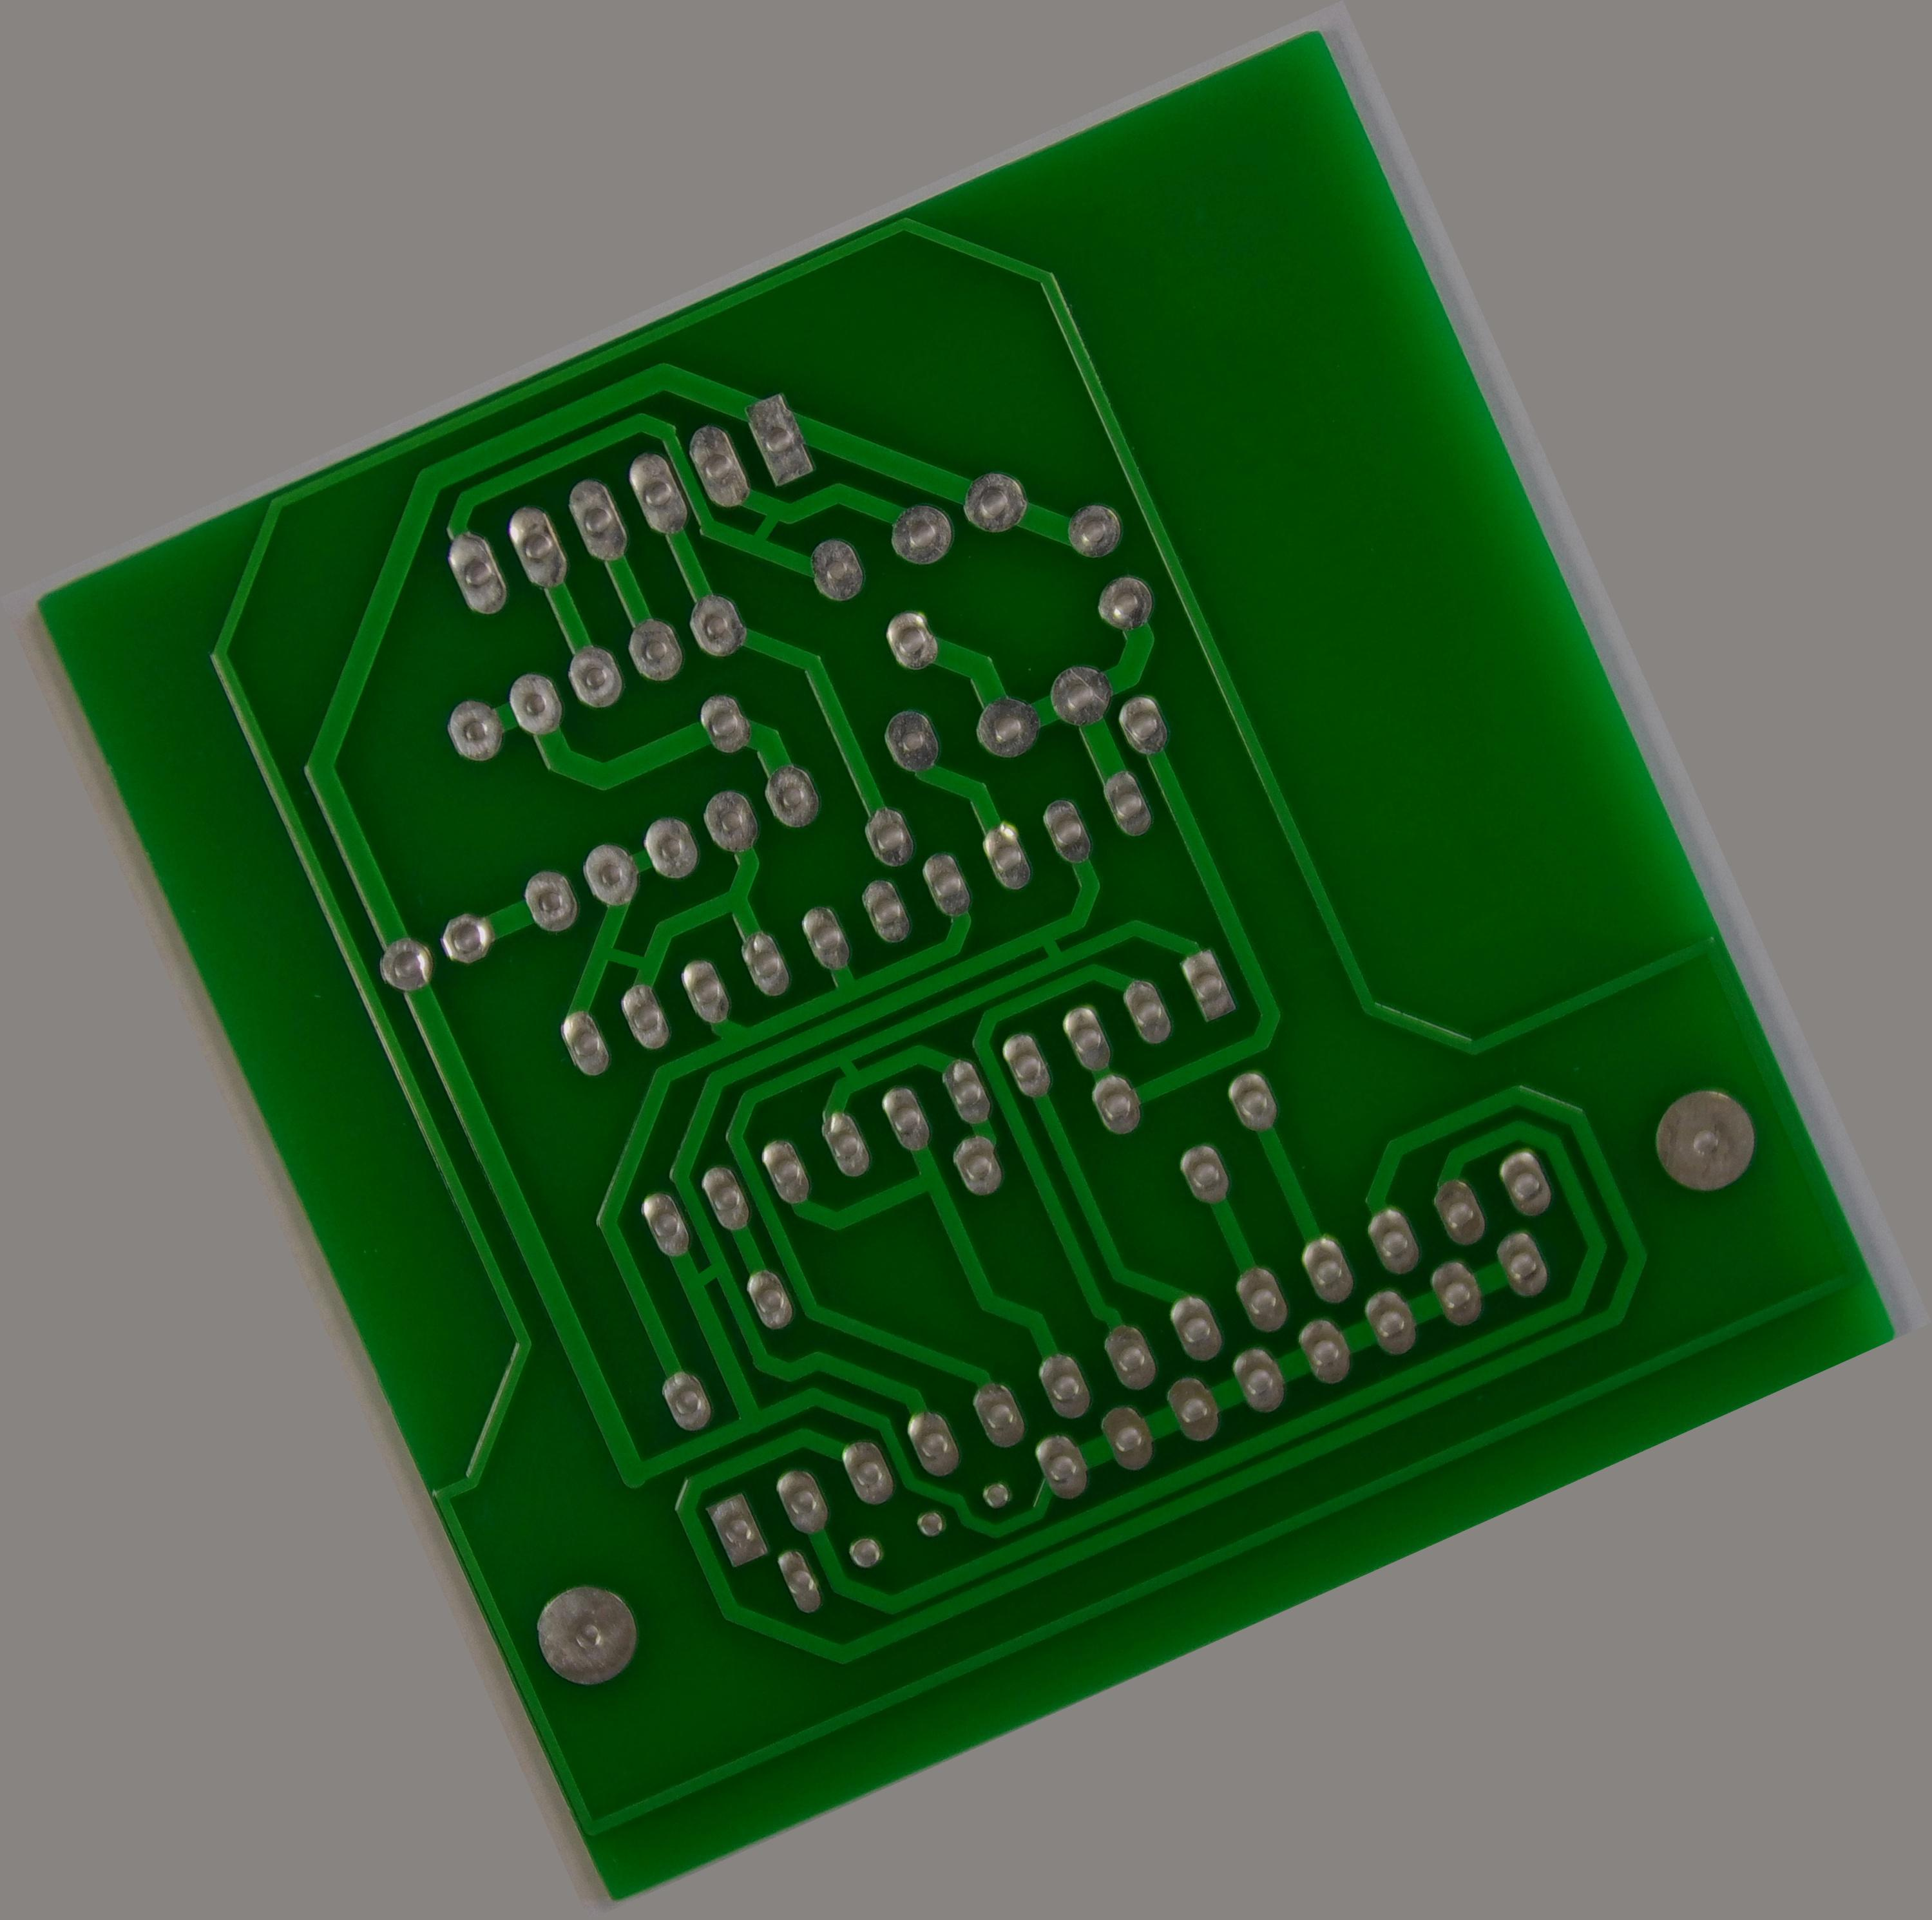short: (571, 911, 672, 1002), (712, 487, 809, 571), (1007, 904, 1090, 992), (665, 1245, 745, 1313), (810, 1032, 886, 1104)
